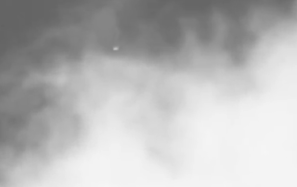Target: (114, 48, 118, 50)
